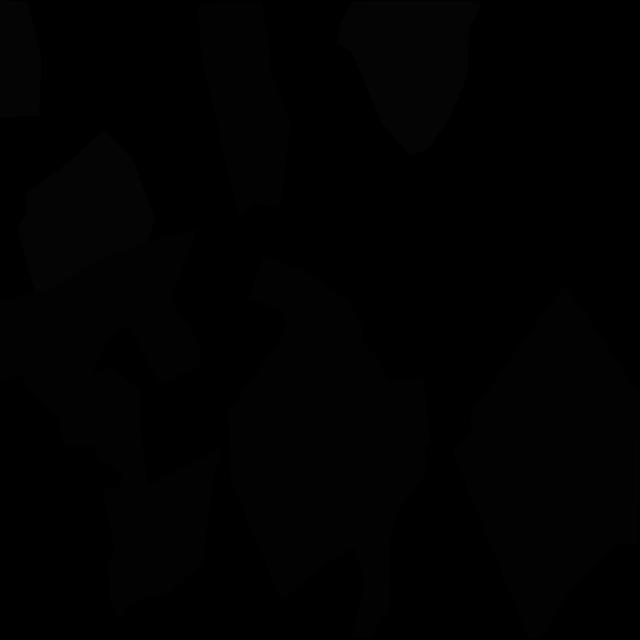cardboard: (228, 256, 430, 639), (452, 284, 640, 639), (0, 228, 202, 447), (95, 414, 220, 619), (197, 1, 291, 216)
soft_plastic: (17, 130, 156, 294), (337, 0, 480, 156), (0, 0, 42, 118)
